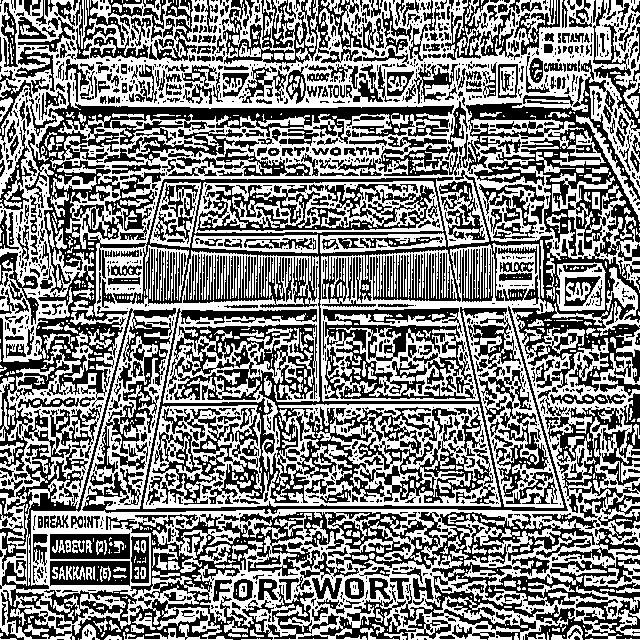left side: (434, 177, 567, 509), (78, 180, 203, 511)
player: (252, 374, 283, 512), (449, 91, 472, 178)
